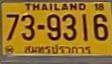1: (82, 14, 87, 40)
3: (62, 13, 76, 40), (21, 14, 34, 40)
6: (93, 13, 107, 40)
7: (5, 13, 18, 40)
9: (46, 13, 60, 40)
SPK: (23, 43, 93, 56)
